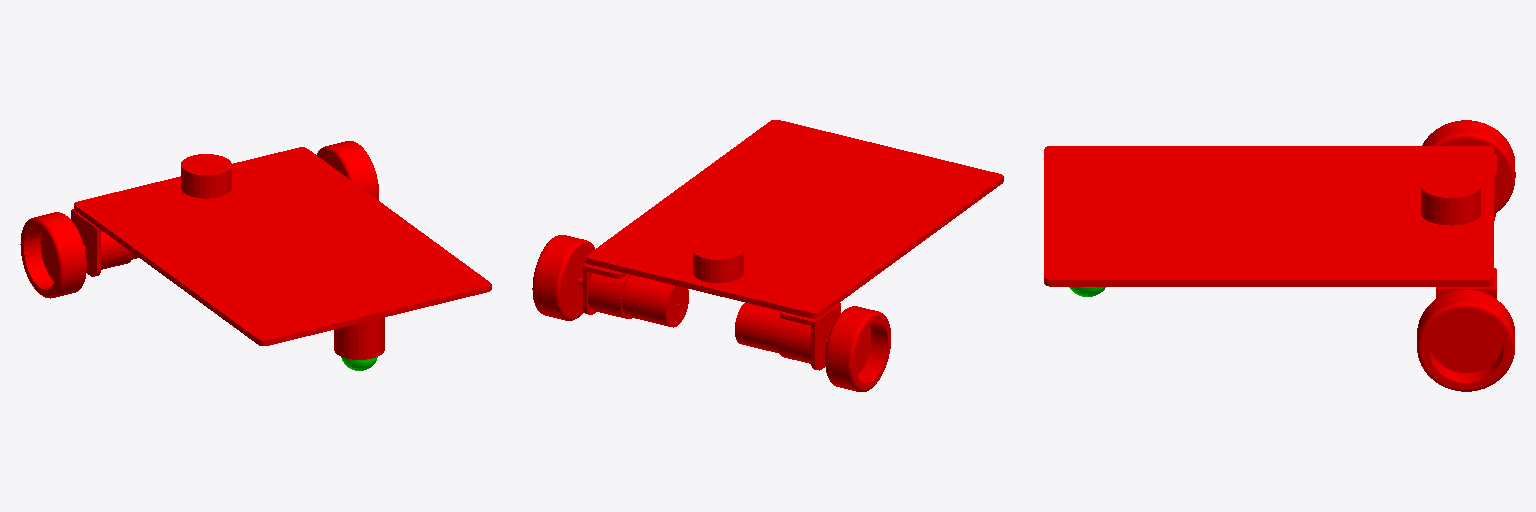
robot.urdf — simplebot:
<robot name="simplebot">
  <!-- link -->
    <link name="base_link">
    </link>

    <link name="wheel_left_link">
      <visual>
        <geometry>
          <mesh filename="package://simplebot_description/dae/wheel.dae" />
        </geometry>
        <origin xyz="0 0 0" rpy="0 0 3.14"/>
          <material name="red">
          <color rgba="1.0 0.0 0.0 2.0"/>
        </material>

      </visual>
      <collision>
        <geometry>
          <cylinder length="0.025" radius="0.0325"/>
        </geometry>
        <origin xyz="0.0275 0 0" rpy="0 1.57 0"/>
      </collision>
      <inertial>
        <origin xyz="0 0 0" rpy="0 0 0"/>
        <mass value="0.05"/>
        <inertia ixx="0.000015807" ixy="0" ixz="0"
          iyy="0.000015807" iyz="0"
          izz="0.000026406"/>
      </inertial>
    </link>

    <link name="wheel_right_link">
      <visual>
        <geometry>
          <mesh filename="package://simplebot_description/dae/wheel.dae" />
        </geometry>
        <origin xyz="0 0 0" rpy="0 0 0"/>
          <material name="red">
          <color rgba="1.0 0.0 0.0 2.0"/>
        </material>

      </visual>
      <collision>
        <geometry>
          <cylinder length="0.025" radius="0.0325"/>
        </geometry>
        <origin xyz="-0.0275 0 0" rpy="0 1.57 0"/>
      </collision>
      <inertial>
        <origin xyz="0 0 0" rpy="0 0 0"/>
        <mass value="0.05"/>
        <inertia ixx="0.000015807" ixy="0" ixz="0"
          iyy="0.000015807" iyz="0"
          izz="0.000026406"/>
      </inertial>
    </link>

    <link name="motor_left_link">
      <visual>
        <geometry>
          <mesh filename="package://simplebot_description/dae/motor.dae" />
        </geometry>
        <origin xyz="0 0 0" rpy="0 0 0"/>
          <material name="red">
          <color rgba="1.0 0.0 0.0 2.0"/>
        </material>

      </visual>
      <collision>
        <geometry>
          <cylinder length="0.06" radius="0.02"/>
        </geometry>
        <origin xyz="0 -0.03 0.025" rpy="0 1.57 1.57"/>
      </collision>
      <inertial>
        <origin xyz="0 0 0" rpy="0 0 0"/>
        <mass value="0.3"/>
        <inertia ixx="0.000136875" ixy="0" ixz="0"
          iyy="0.000136875" iyz="0"
          izz="0.00006"/>
      </inertial>
    </link>

    <link name="motor_right_link">
      <visual>
        <geometry>
          <mesh filename="package://simplebot_description/dae/motor.dae" />
        </geometry>
        <origin xyz="0 0 0" rpy="0 0 0"/>
          <material name="red">
          <color rgba="1.0 0.0 0.0 2.0"/>
        </material>

      </visual>
      <collision>
        <geometry>
          <cylinder length="0.06" radius="0.02"/>
        </geometry>
        <origin xyz="0 -0.03 0.025" rpy="0 1.57 1.57"/>
      </collision>
      <inertial>
        <origin xyz="0 0 0" rpy="0 0 0"/>
        <mass value="0.3"/>
        <inertia ixx="0.000136875" ixy="0" ixz="0"
          iyy="0.000136875" iyz="0"
          izz="0.00006"/>
      </inertial>
    </link>

    <link name="body_link">
      <visual>
        <geometry>
          <mesh filename="package://simplebot_description/dae/base_board.dae" />
        </geometry>
          <material name="red">
          <color rgba="1.0 0.0 0.0 2.0"/>
        </material>
      </visual>
      <collision>
        <geometry>
          <box size="0.21 0.297 0.004"/>
        </geometry>
        <origin xyz="0 0 0" rpy="0 0 0"/>
      </collision>
      <inertial>
        <origin xyz="0 0 0" rpy="0 0 0"/>
        <mass value="0.3"/>
        <inertia ixx="0.0011029" ixy="0" ixz="0"
          iyy="0.002205625" iyz="0"
          izz="0.003307725"/>

          <!-- <inertia ixx="1.0" ixy="0" ixz="0"
          iyy="1.0" iyz="0"
          izz="1.0"/> -->
      </inertial>
    </link>

    <!-- caster -->

    <link name="caster_holder_link">
      <visual>
        <geometry>
          <cylinder length="0.04" radius="0.02"/>
        </geometry>
          <material name="red">
          <color rgba="1.0 0.0 0.0 2.0"/>
        </material>
      </visual>

      <collision>
        <geometry>
          <cylinder length="0.04" radius="0.02"/>
        </geometry>
      </collision>
      
    <inertial>
      <origin xyz="0 0 0"/>
      <mass value="0.05"/>
      <inertia ixx="0.000011666" ixy="0" ixz="0" iyy="0.000011666"  iyz="0" izz="0.000011666"/>
    </inertial>

    </link>

    <link name="caster_ball_link">
      <visual>
        <geometry>
          <sphere radius="0.015"/>
        </geometry>
        <material name="green">
          <color rgba="0 1 0 1"/>
        </material>
      </visual>

      <collision>
        <geometry>
          <sphere radius="0.015"/>
        </geometry>
      </collision>
      
    <inertial>
      <origin xyz="0 0 0"/>
      <mass value="0.05"/>
      <inertia ixx="0.0000045" ixy="0" ixz="0" iyy="0.0000045"  iyz="0" izz="0.0000045"/>
    </inertial>

    </link>

    <!-- lidar -->
    
    <link name="lidar_link">
      <visual>
        <origin xyz="0 0 0" rpy="0 0 0" />
        <geometry>
          <cylinder radius="0.02" length="0.02" />
        </geometry>
        <material name="red" />
      </visual>
      <collision>
        <origin xyz="0 0 0" rpy="0 0 0"/>
        <geometry>
          <cylinder radius="0.02" length="0.02" />
        </geometry>
      </collision>
    </link>

    <!-- joint -->
    <joint name="base_joint" type="fixed">
        <parent link="base_link"/>
        <child  link="body_link"/>
        <origin xyz="0 0 0" rpy="0 0 0"/>
    </joint>

    <joint name="motor_left_joint" type="fixed">
        <parent link="body_link"/>
        <child  link="motor_left_link"/>
        <origin xyz="-0.105 0.13 -0.004" rpy="0 3.14 1.57"/>
    </joint>
    <joint name="wheel_left_joint" type="continuous">
        <parent link="motor_left_link"/>
        <child  link="wheel_left_link"/>
        <origin xyz="0 0 0.025" rpy="0 0 1.57"/>
    </joint>

    <joint name="motor_right_joint" type="fixed">
        <parent link="body_link"/>
        <child  link="motor_right_link"/>
        <origin xyz="0.105 0.13 -0.004" rpy="0 3.14 -1.57"/>
    </joint>
    <joint name="wheel_right_joint" type="continuous">
        <parent link="motor_right_link"/>
        <child  link="wheel_right_link"/>
        <origin xyz="0 0 0.025" rpy="0 0 -1.57"/>
    </joint>

    <!-- caster -->
    <joint name="caster_holder_joint" type="fixed">
      <parent link="body_link"/>
      <child  link="caster_holder_link"/>
      <origin xyz="0 -0.12 -0.02" rpy="0 0 1.57"/>
    </joint>
    <joint name="caster_ball_joint" type="fixed">
      <parent link="caster_holder_link"/>
      <child  link="caster_ball_link"/>
      <origin xyz="0 0 -0.0225" rpy="0 0 1.57"/>
    </joint>

    <!-- lidar -->
    <joint name="lidar_joint" type="fixed">
      <parent link="body_link"/>
      <child  link="lidar_link"/>
      <origin xyz="0 0.12 0.0125" rpy="0 0 1.57"/>
    </joint>


    <!-- transmission -->

    <transmission name="wheel_right_trans">
      <type>transmission_interface/SimpleTransmission</type>
      <joint name="wheel_right_joint">
        <hardwareInterface>VelocityJointInterface</hardwareInterface>
      </joint>
      <actuator name="wheel_right_motor">
        <hardwareInterface>VelocityJointInterface</hardwareInterface>
        <mechanicalReduction>30</mechanicalReduction>
      </actuator>
    </transmission>

    <transmission name="wheel_left_trans">
      <type>transmission_interface/SimpleTransmission</type>
      <joint name="wheel_left_joint">
        <hardwareInterface>VelocityJointInterface</hardwareInterface>
      </joint>
      <actuator name="wheel_left_motor">
        <hardwareInterface>VelocityJointInterface</hardwareInterface>
        <mechanicalReduction>30</mechanicalReduction>
      </actuator>
    </transmission>

    <!-- gazebo -->

    <gazebo>
      <plugin name="gazebo_ros_control" filename="libgazebo_ros_control.so">
        <robotNamespace>simplebot</robotNamespace>
      </plugin>
    </gazebo>

    <gazebo reference="wheel_right_link">
      <selfCollide>true</selfCollide>
      <mu1 value="0.75" />
      <mu2 value="0.75" />
    </gazebo>

    <gazebo reference="wheel_left_link">
      <selfCollide>true</selfCollide>
      <mu1 value="0.75" />
      <mu2 value="0.75" />
    </gazebo>

    <gazebo reference="body_link">
      <selfCollide>true</selfCollide>
      <mu1 value="0.08" />
      <mu2 value="0.08" />
    </gazebo>

    <gazebo reference="caster_ball_link">
      <selfCollide>true</selfCollide>
      <mu1 value="0.0" />
      <mu2 value="0.0" />
    </gazebo>

    
    <gazebo reference="lidar_link">
      <material>Gazebo/Black</material>
      <sensor type="ray" name="lidar">
        <pose>0 0 0 0 0 0</pose>
        <visualize>false</visualize>
        <update_rate>10</update_rate>
        <ray>
          <scan>
            <horizontal>
              <samples>400</samples>
              <resolution>1</resolution>
              <min_angle>-3.14</min_angle>
              <max_angle>3.14</max_angle>
            </horizontal>
          </scan>
          <range>
            <min>0.10</min>
            <max>7.0</max>
            <resolution>0.75</resolution>
          </range>
          <noise>
            <type>gaussian</type>
            <mean>0.0</mean>
            <stddev>0.01</stddev>
          </noise>
        </ray>
        <plugin name="gazebo_ros_lidar_controller" filename="libgazebo_ros_laser.so">
          <topicName>/scan</topicName>
          <frameName>lidar_link</frameName>
        </plugin>
      </sensor>
    </gazebo>


  </robot>

--- Render facts (derived) ---
3 views of the same robot in one strip: view 1: azimuth 30°, elevation 25°; view 2: azimuth 150°, elevation 25°; view 3: azimuth 270°, elevation 25° (orthographic).
Robot: simplebot — 9 links, 8 joints (2 continuous, 6 fixed); root link base_link; default pose: all joints at 0.
Visible links, largest first — view 1: body_link, wheel_left_link, lidar_link, motor_left_link, wheel_right_link, caster_holder_link; view 2: body_link, motor_right_link, wheel_left_link, motor_left_link, wheel_right_link, lidar_link; view 3: body_link, wheel_right_link, lidar_link, wheel_left_link.
Link boxes in pixels (x1,y1,x2,y2): body_link: [74, 147, 491, 345]; wheel_left_link: [20, 212, 86, 298]; lidar_link: [181, 154, 231, 198]; motor_left_link: [71, 209, 138, 276]; wheel_right_link: [317, 141, 378, 200]; caster_holder_link: [334, 317, 384, 359]; body_link: [586, 120, 1003, 318]; motor_right_link: [583, 263, 688, 327]; wheel_left_link: [825, 306, 890, 391]; motor_left_link: [735, 303, 840, 370]; wheel_right_link: [532, 235, 594, 320]; lidar_link: [693, 239, 743, 282]; body_link: [1044, 146, 1493, 286]; wheel_right_link: [1417, 290, 1514, 391]; lidar_link: [1421, 173, 1480, 225]; wheel_left_link: [1422, 120, 1515, 212].
Bounding box of the posed robot: 0.2896 × 0.311 × 0.084 m (x, y, z).
Meshes: 3 distinct files referenced, 5 mesh visuals loaded (3 Collada DAE).
